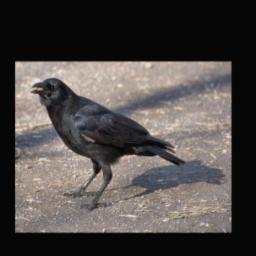Crow: (30, 76, 186, 211)
